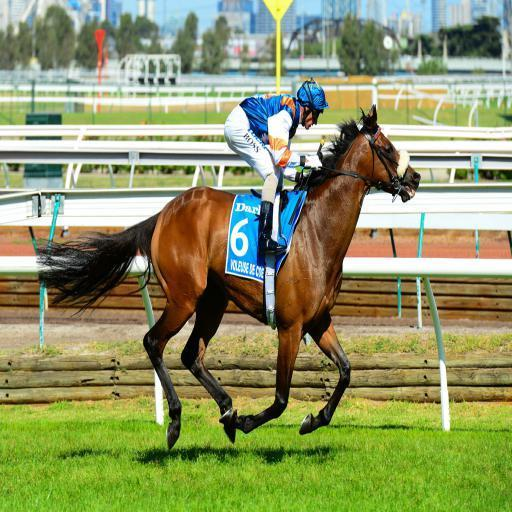horse: (34, 103, 422, 453)
